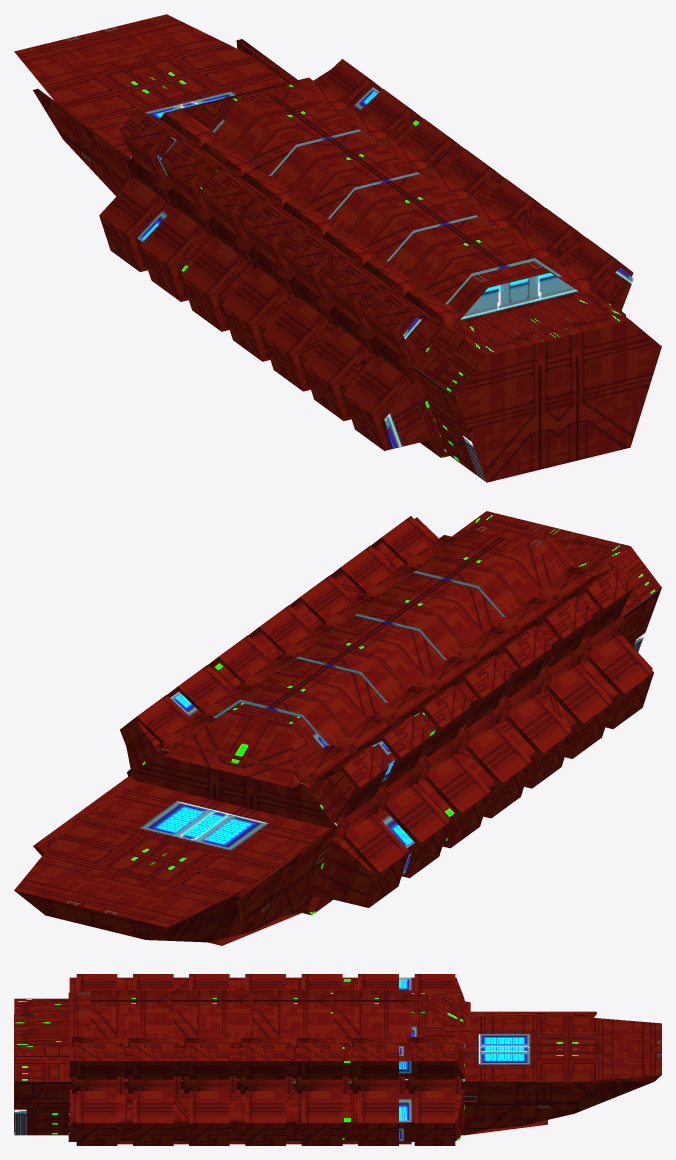
The model's file is Vul_Raasik.fbx.
3 renders of one model, top to bottom at view 1: azimuth 30°, elevation 25°; view 2: azimuth 150°, elevation 25°; view 3: azimuth 270°, elevation 25°, orthographic. The views are drawn at different scales.
Visible parts, largest first — view 1: Vul_Raasik; view 2: Vul_Raasik; view 3: Vul_Raasik.
Part boxes in pixels (left/top/right/bottom): Vul_Raasik: left=14, top=14, right=661, bottom=482; Vul_Raasik: left=14, top=511, right=661, bottom=945; Vul_Raasik: left=14, top=974, right=661, bottom=1145.
Size of the model in its own units: 177 by 115 by 510.
Materials: 1 (1 with a texture image).
